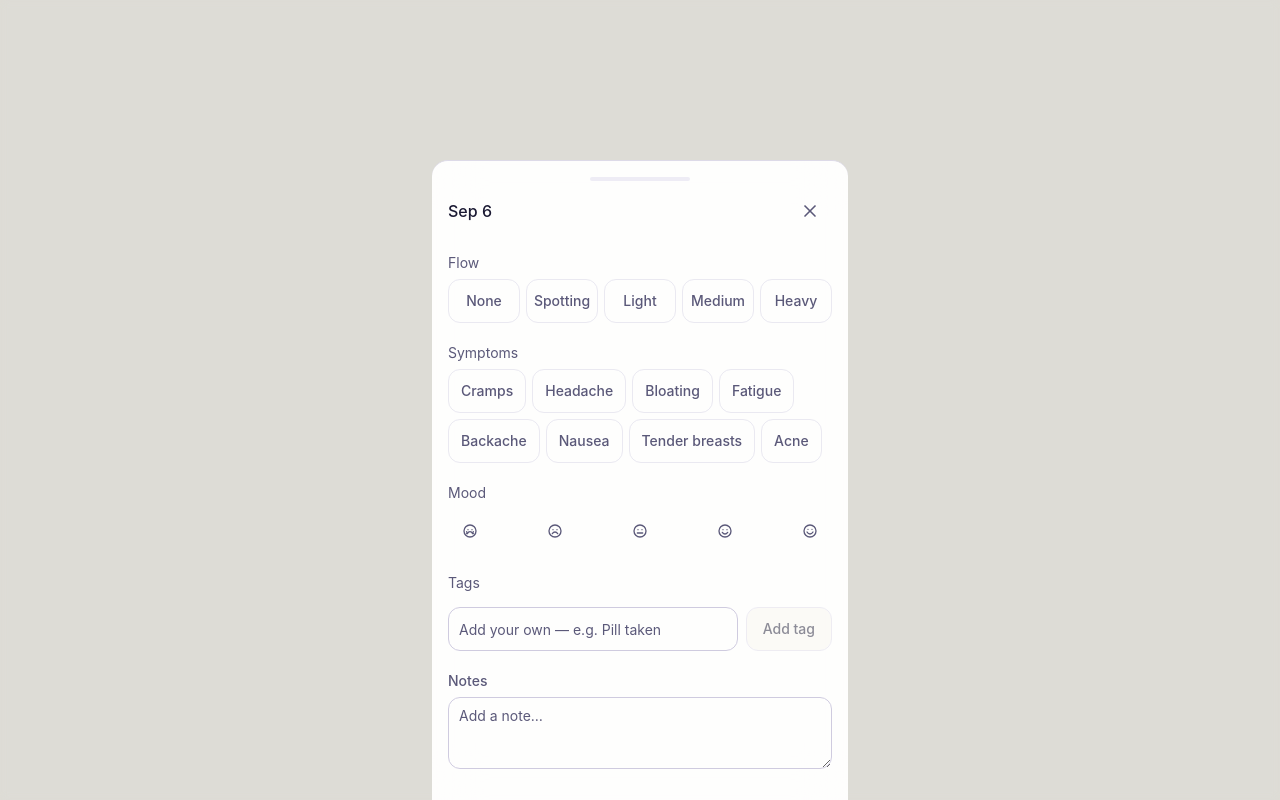
Test case: LogEntryScreen — form behaviour (T54) › asks before throwing away unsaved changes
Step 1. Click the radio button labelled "Heavy" → [796, 301], box [760,279,832,323]
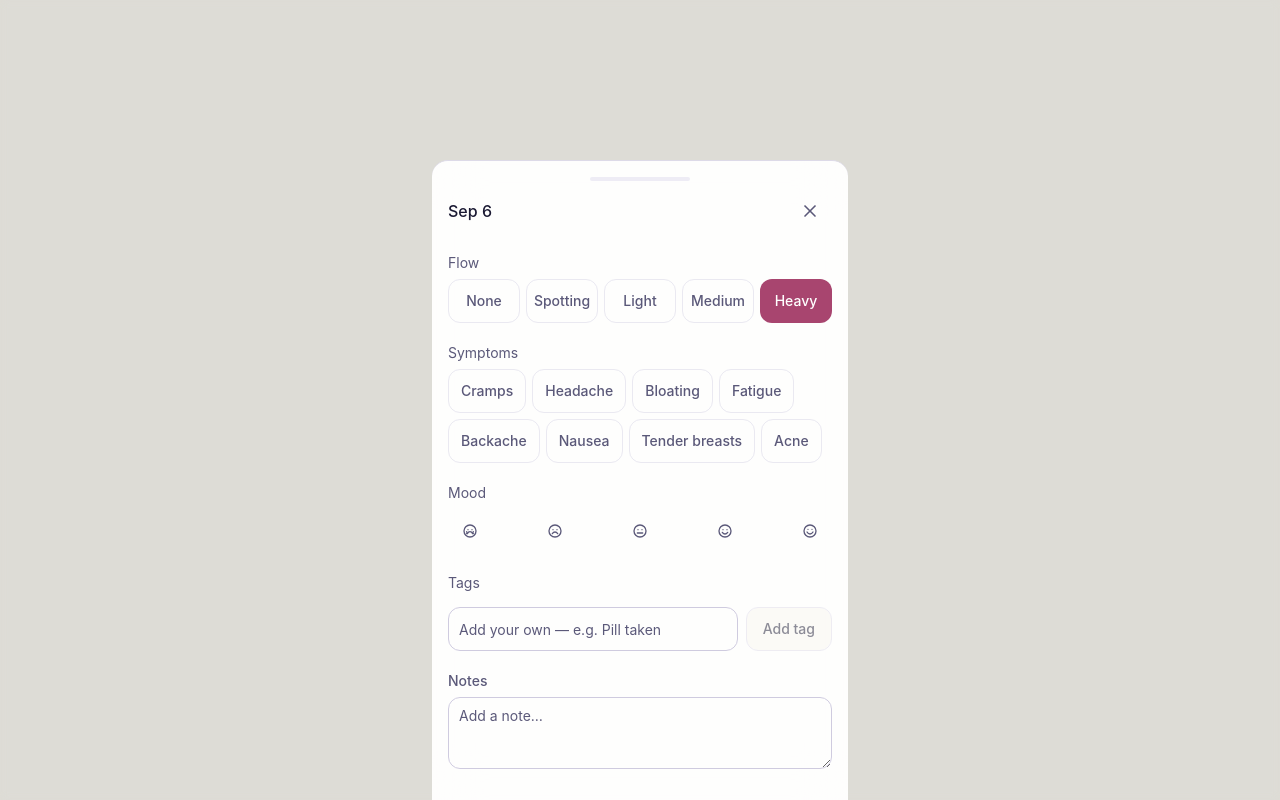
Step 2. Click the button named "Close" → [810, 211], box [788,189,832,233]
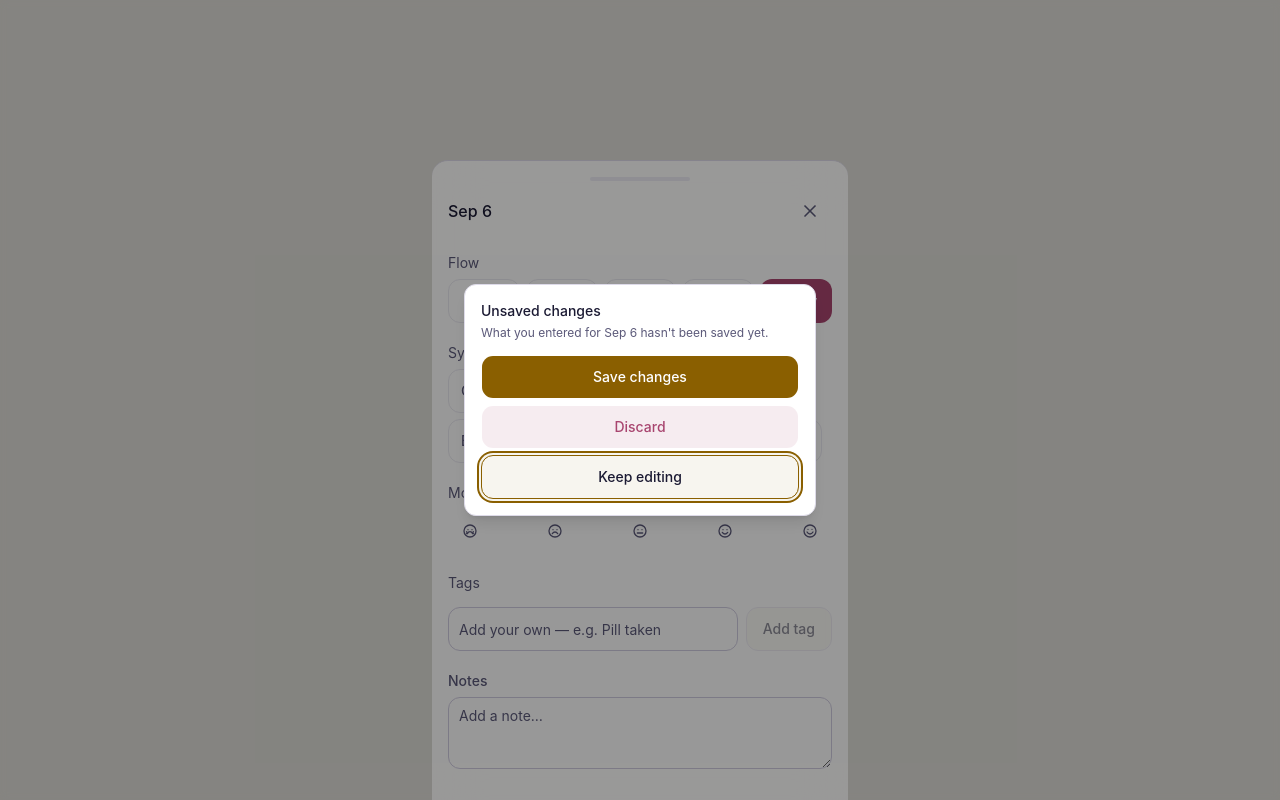
Expected: the dialog "Unsaved changes" is shown, [464,284,816,516]
